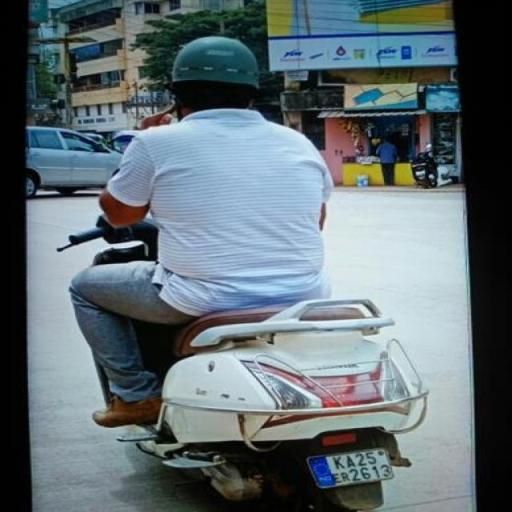using mobile: (143, 95, 190, 127)
